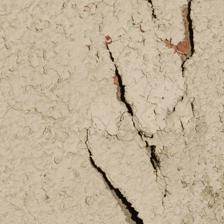Crack: (21, 27, 121, 139), (0, 51, 88, 126), (58, 9, 115, 67)
